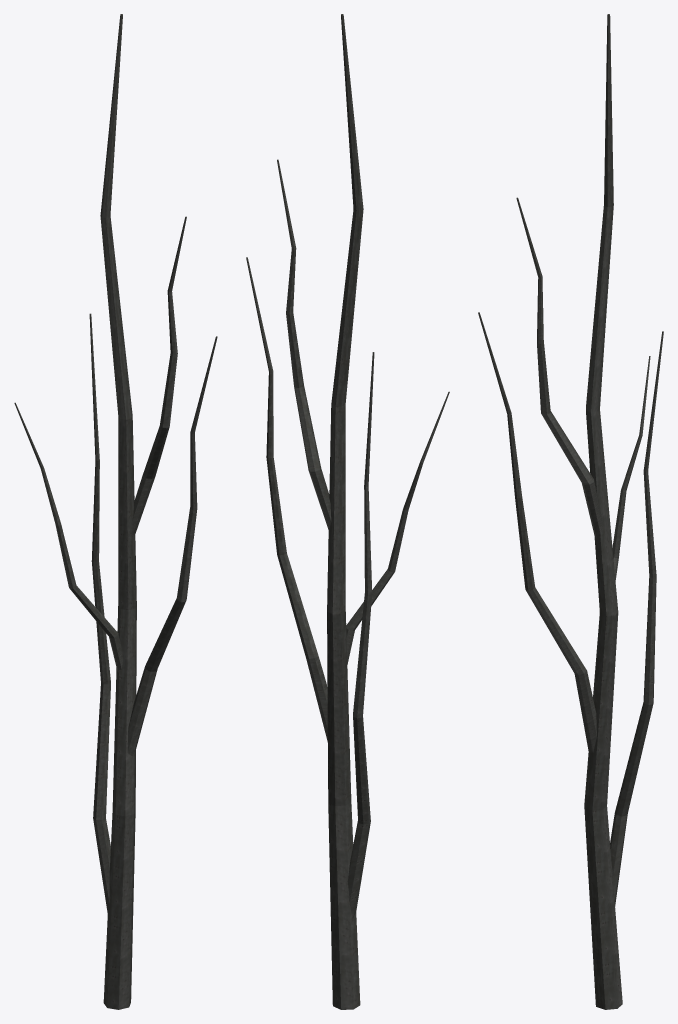
The model's file is Tree_thin02.fbx.
3 renders of one model, left to right at view 1: azimuth 30°, elevation 25°; view 2: azimuth 210°, elevation 25°; view 3: azimuth 270°, elevation 25°, orthographic.
Parts seen in each view (by area): view 1: Tree_thin02; view 2: Tree_thin02; view 3: Tree_thin02.
Boxes of the visible parts, x1=… form: Tree_thin02: x1=14, y1=14, x2=217, y2=1009; Tree_thin02: x1=246, y1=14, x2=449, y2=1009; Tree_thin02: x1=478, y1=14, x2=663, y2=1009.
Bounding box in the file's own units: 0.8702 × 6.98 × 1.19.
1 material, 1 textured.
